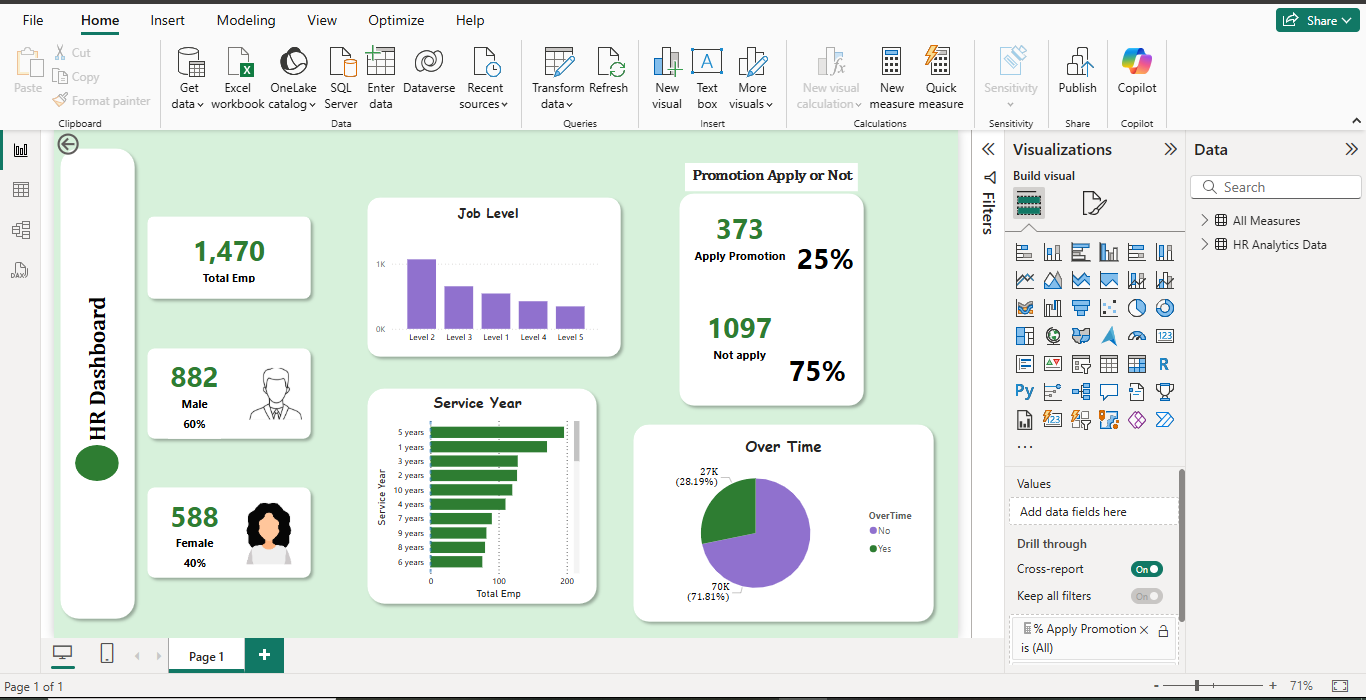

The dashboard page shown, as its layout file describes it:
{"tool":"powerbi","page":{"name":"Page 1","canvas":[1280,720],"ordinal":0},"visuals":[{"type":"shape","box":[0,17,123.3,684.6],"z":0},{"type":"shape","box":[877.3,80.8,279.2,318.9],"z":1000},{"type":"shape","box":[435.1,357.2,343,323.1],"z":2000},{"type":"shape","box":[435.1,86.5,377,243.8],"z":3000},{"type":"shape","box":[812.1,408.2,443.6,297.6],"z":4000},{"type":"shape","box":[123.3,113.4,249.4,134.6],"z":5000},{"type":"shape","box":[123.3,300.5,249.4,146],"z":6000},{"type":"shape","box":[123.3,497.5,249.4,146],"z":7000},{"type":"card","fields":{"Values":["All Measures.Total Emp"]},"box":[150.2,140.3,195.6,80.8],"z":8000},{"type":"card","fields":{"Values":["All Measures.Male"]},"box":[140.3,318.9,117.6,80.8],"z":9000},{"type":"card","fields":{"Values":["All Measures.% male"]},"box":[161.6,399.7,75.1,38.3],"z":10000},{"type":"card","fields":{"Values":["All Measures.% female"]},"box":[158.7,599.5,82.2,32.6],"z":11000},{"type":"card","fields":{"Values":["All Measures.Female"]},"box":[137.5,514.5,123.3,85],"z":12000},{"type":"image","box":[265,521.6,80.8,99.2],"z":13000},{"type":"image","box":[272.1,330.2,83.6,86.5],"z":14000},{"type":"card","fields":{"Values":["All Measures.Apply Promotion"]},"box":[894.3,103.5,155.9,92.1],"z":15000},{"type":"card","fields":{"Values":["All Measures.Not apply"]},"box":[908.5,248,126.1,83.6],"z":16000},{"type":"card","fields":{"Values":["All Measures.% Apply Promotion"]},"box":[1047.4,147.4,92.1,66.6],"z":17000},{"type":"card","fields":{"Values":["All Measures.% Not apply"]},"box":[1034.6,310.4,95,59.5],"z":18000},{"type":"barChart","title":"Service Year","fields":{"Category":["HR Analytics Data.Service Year"],"Y":["All Measures.Total Emp"]},"box":[450.7,371.3,299.1,299.1],"z":19000},{"type":"actionButton","box":[0,0,100,40],"z":20000},{"type":"columnChart","title":" Job Level ","fields":{"Category":["HR Analytics Data.Job Levels"],"Y":["Sum(HR Analytics Data.JobLevel)"]},"box":[450.7,103.5,328.8,208.3],"z":21000},{"type":"shape","box":[32.6,181.4,59.5,316.1],"z":22000},{"type":"pieChart","title":"Over Time","fields":{"Y":["Sum(HR Analytics Data.HourlyRate)"],"Category":["HR Analytics Data.OverTime"]},"box":[829.1,432.3,409.6,248],"z":23000},{"type":"textbox","box":[894.3,46.8,245.2,39.7],"z":24000},{"type":"shape","box":[29.8,446.5,62.4,51],"z":25000}]}

Visuals, with their boxes on the page's 1280x720 design canvas (x1, y1, x2, y2). These are canvas units, not pixel positions in the 1366x700 screenshot, which may show the page scaled, cropped or inside an application window:
shape: BBox(0, 17, 123, 702)
shape: BBox(877, 81, 1156, 400)
shape: BBox(435, 357, 778, 680)
shape: BBox(435, 86, 812, 330)
shape: BBox(812, 408, 1256, 706)
shape: BBox(123, 113, 373, 248)
shape: BBox(123, 300, 373, 446)
shape: BBox(123, 498, 373, 644)
card - All Measures.Total Emp: BBox(150, 140, 346, 221)
card - All Measures.Male: BBox(140, 319, 258, 400)
card - All Measures.% male: BBox(162, 400, 237, 438)
card - All Measures.% female: BBox(159, 600, 241, 632)
card - All Measures.Female: BBox(138, 514, 261, 600)
image: BBox(265, 522, 346, 621)
image: BBox(272, 330, 356, 417)
card - All Measures.Apply Promotion: BBox(894, 104, 1050, 196)
card - All Measures.Not apply: BBox(908, 248, 1035, 332)
card - All Measures.% Apply Promotion: BBox(1047, 147, 1140, 214)
card - All Measures.% Not apply: BBox(1035, 310, 1130, 370)
"Service Year" barChart: BBox(451, 371, 750, 670)
actionButton: BBox(0, 0, 100, 40)
" Job Level " columnChart: BBox(451, 104, 780, 312)
shape: BBox(33, 181, 92, 498)
"Over Time" pieChart: BBox(829, 432, 1239, 680)
textbox: BBox(894, 47, 1140, 86)
shape: BBox(30, 446, 92, 498)
